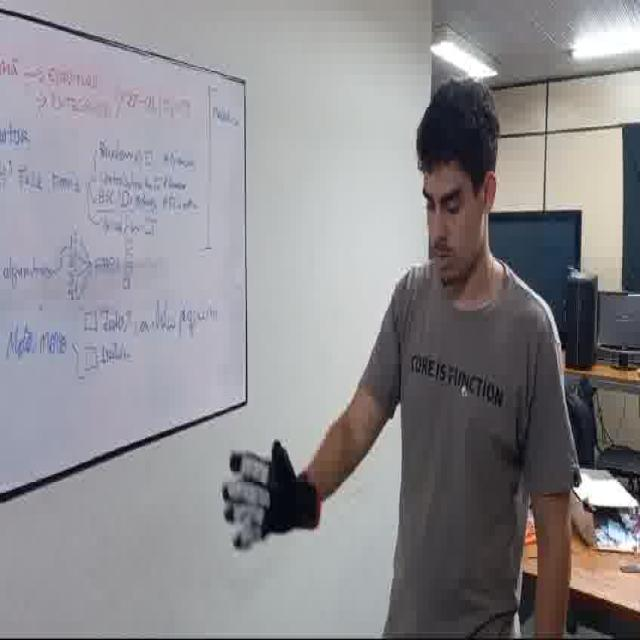Gloves: (222, 440, 320, 549)
